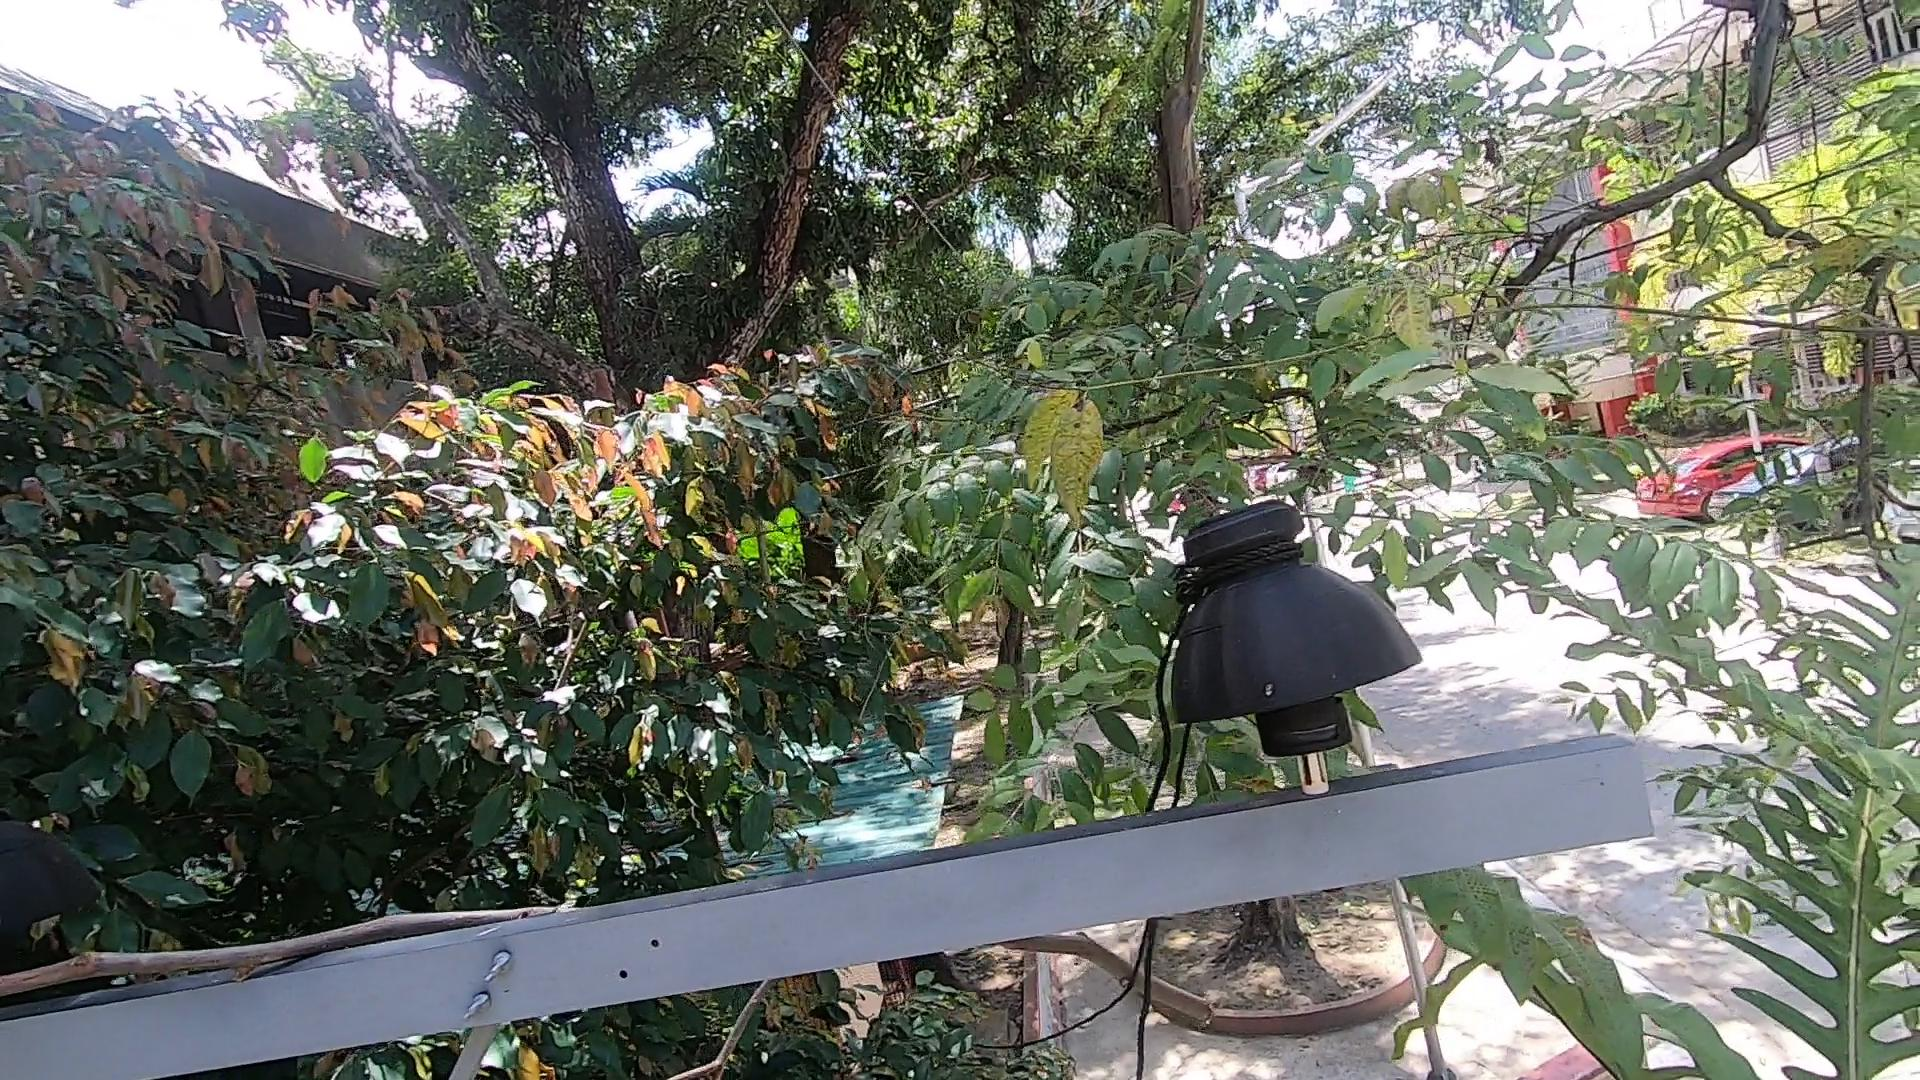tree branch: (1, 895, 574, 1007), (981, 945, 1226, 1039), (628, 981, 762, 1080)
